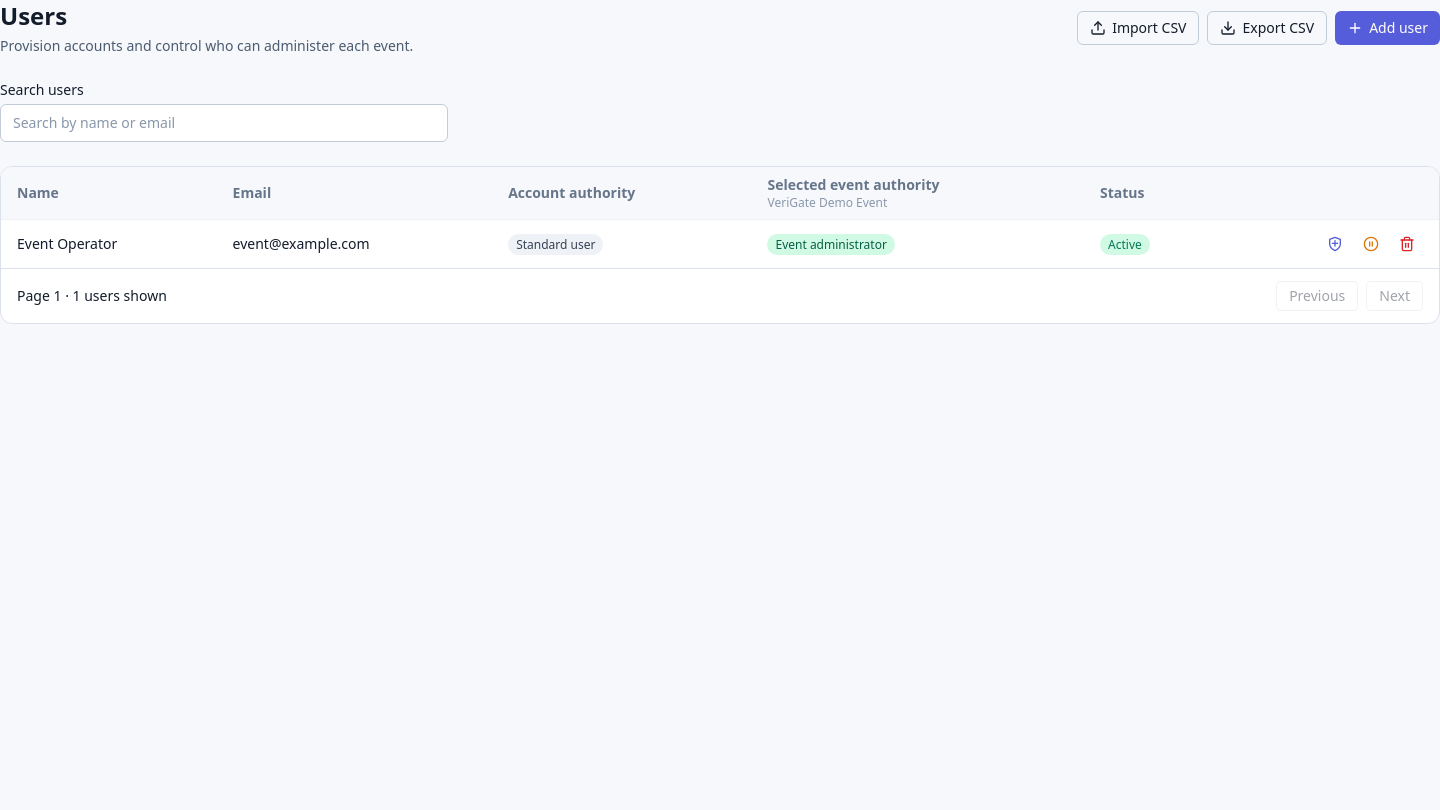
Test: event administration membership management › requires confirmation before removing event-administrator membership
What coordinates should you click on to do the following:
click the button named "manage event operator event administrator access"
I would click on:
 (1335, 244)
Its box is [1319,228,1351,260].
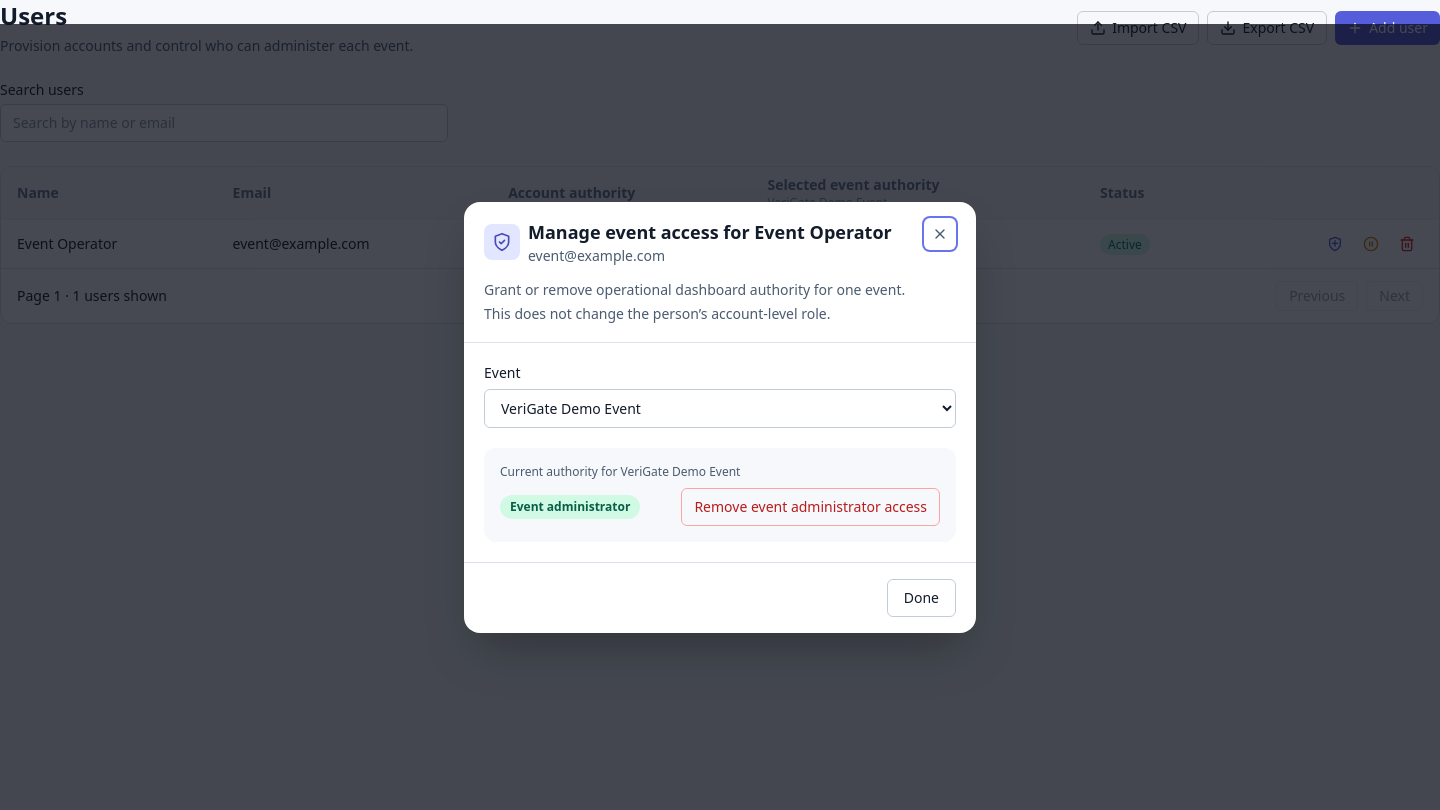
What coordinates should you click on to do the following:
click the button "Remove event administrator access"
I would click on:
 (811, 506)
Its box is [681,488,940,526].
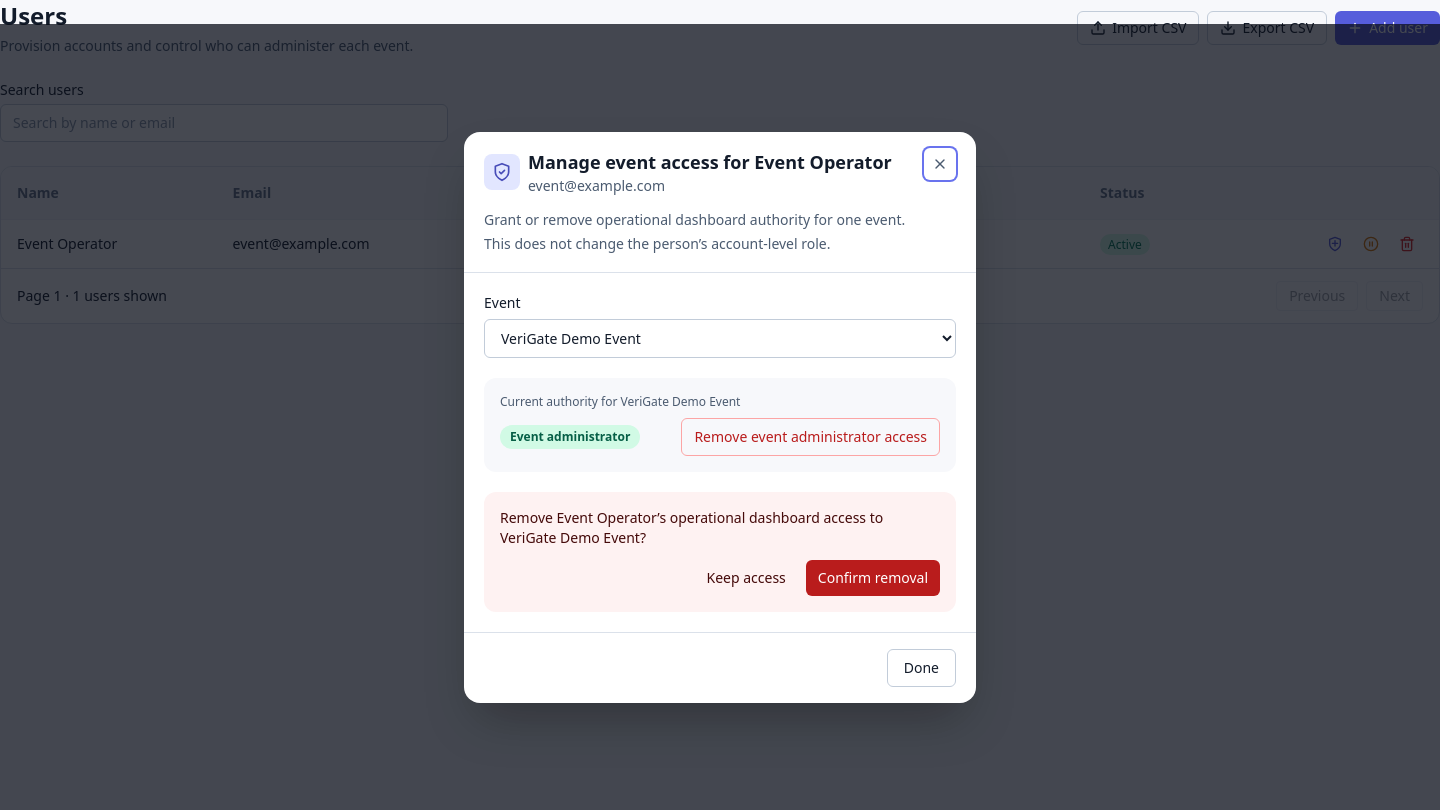
What coordinates should you click on to do the following:
click the button "Confirm removal"
I would click on:
 (873, 578)
Its box is [806,560,940,596].
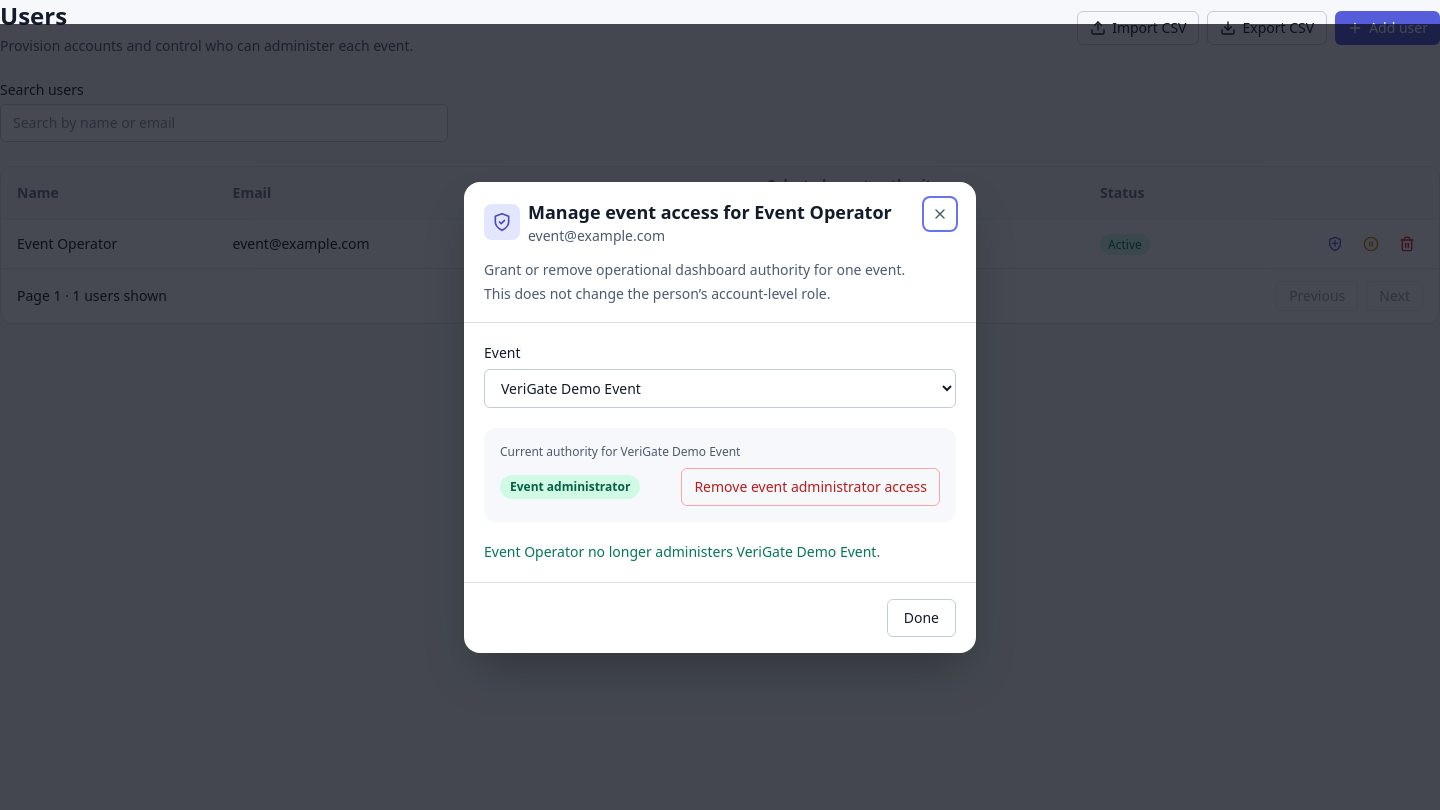
Expected: the message shows "Event Operator no longer administers VeriGate Demo Event", [484,542,880,560]
